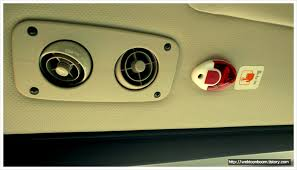bell: (189, 57, 238, 94)
